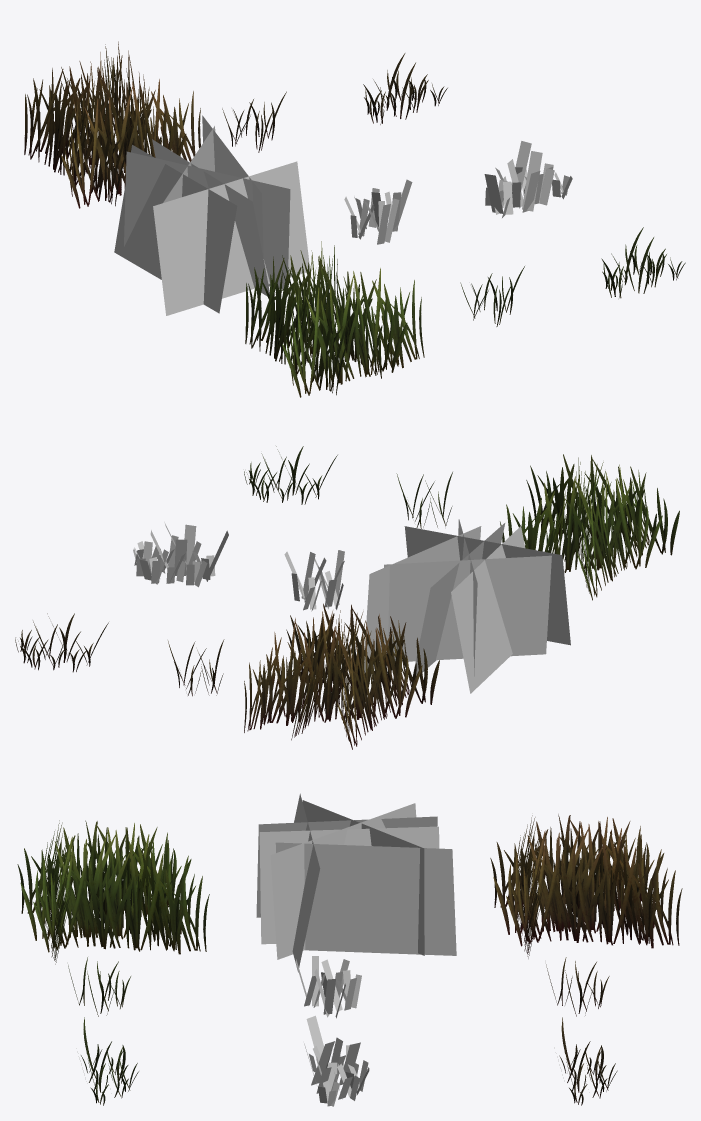
3 views of the same model, one above another, from view 1: azimuth 30°, elevation 25°; view 2: azimuth 150°, elevation 25°; view 3: azimuth 270°, elevation 25° (orthographic). The views are drawn at different scales.
Visible parts, largest first — view 1: mid-material (×3), green-material (×3), yellow-material (×3); view 2: mid-material (×3), yellow-material (×3), green-material (×3); view 3: mid-material (×3), green-material (×3), yellow-material (×3).
Boxes of the visible parts, <box> form: mid-material (×3): <box>114,115,572,315</box>; green-material (×3): <box>245,227,685,397</box>; yellow-material (×3): <box>24,41,447,208</box>; mid-material (×3): <box>133,519,570,693</box>; yellow-material (×3): <box>15,603,439,749</box>; green-material (×3): <box>244,446,679,600</box>; mid-material (×3): <box>256,793,456,1106</box>; green-material (×3): <box>17,820,209,1105</box>; yellow-material (×3): <box>490,814,682,1105</box>.
Size of the model in its own units: 2.78 by 0.7667 by 3.74.
